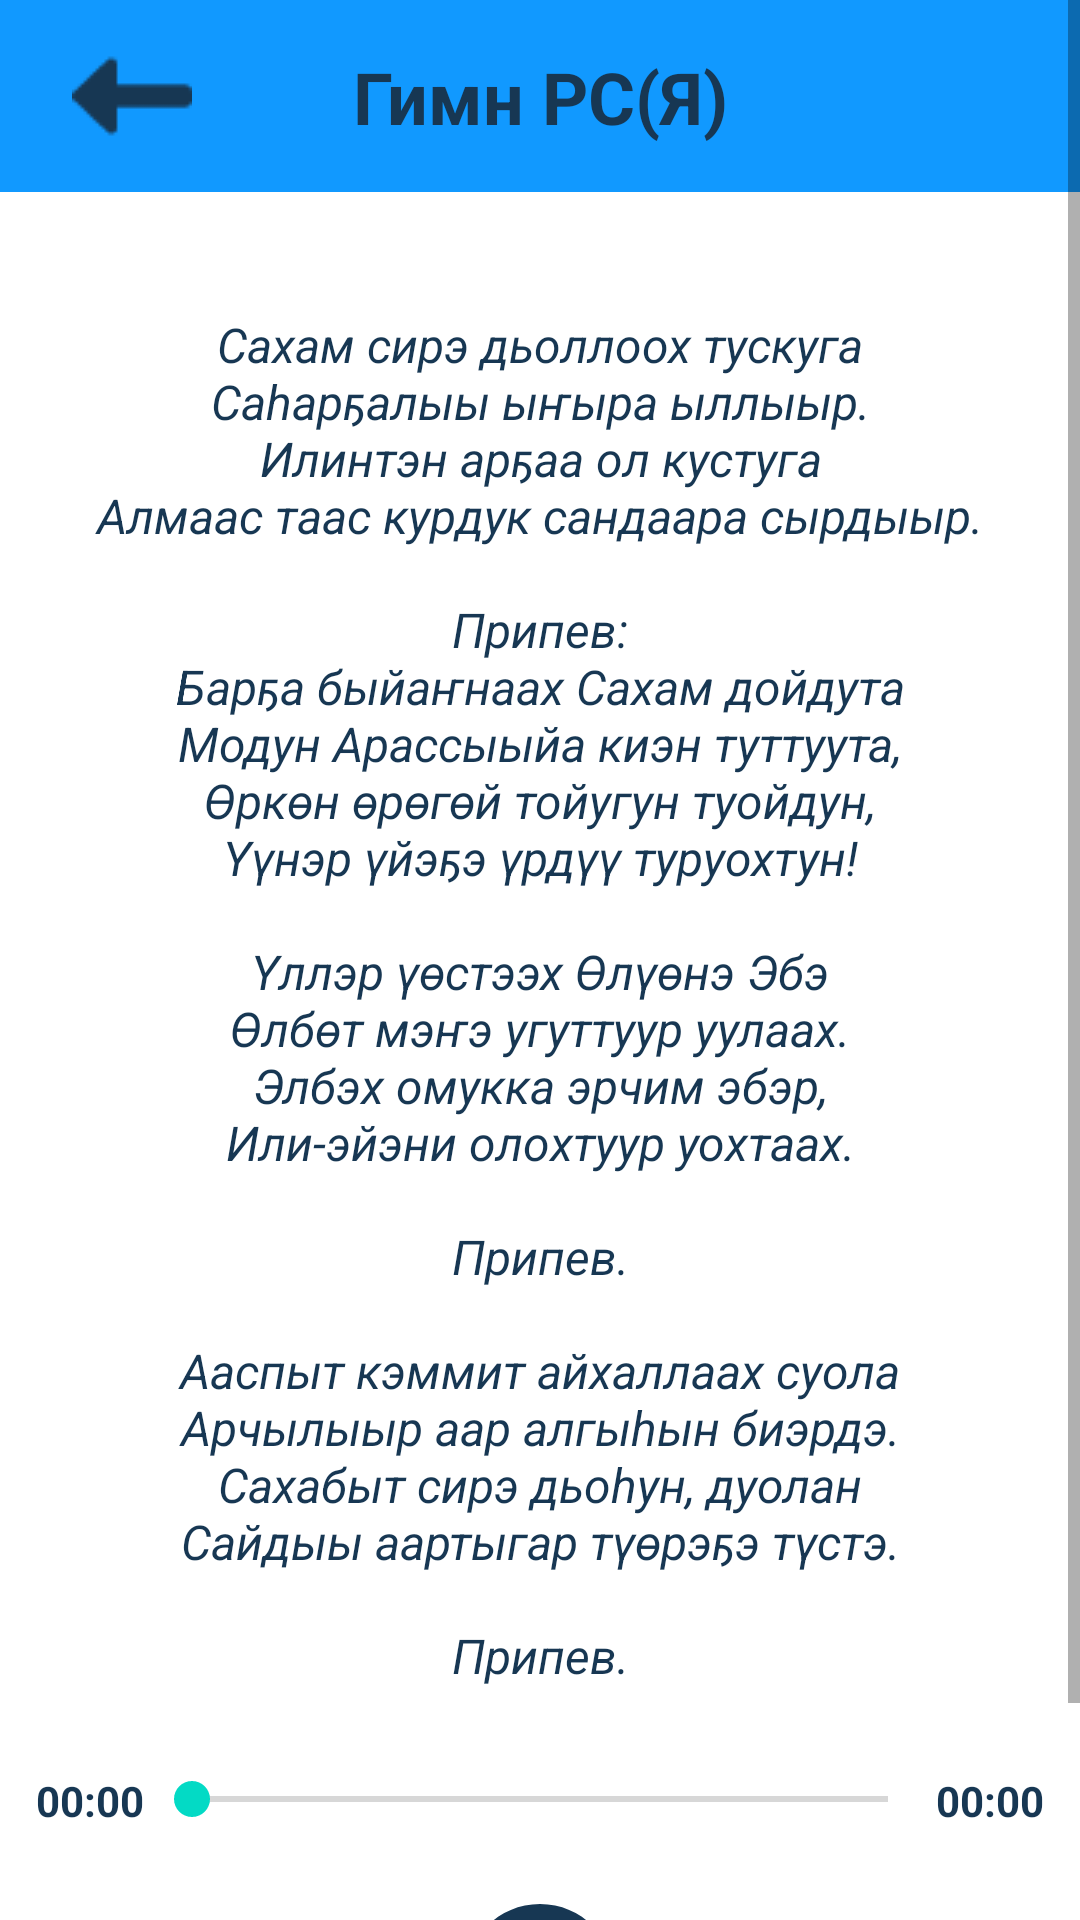

Where icons sit on this 1080 × 1920 app screen, as rect(x1, y1, x2, y2):
Кнопка назад: rect(72, 57, 192, 136)
